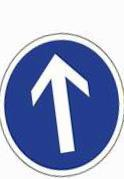forward: (1, 32, 124, 178)
